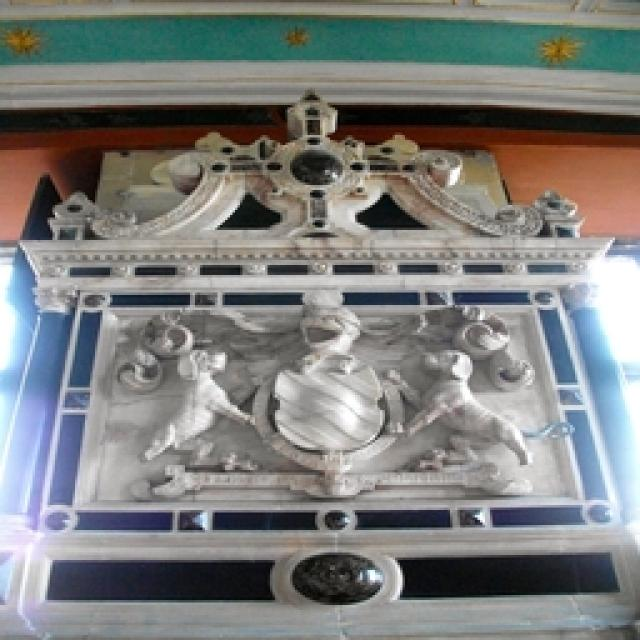Abbey: (47, 131, 640, 519)
